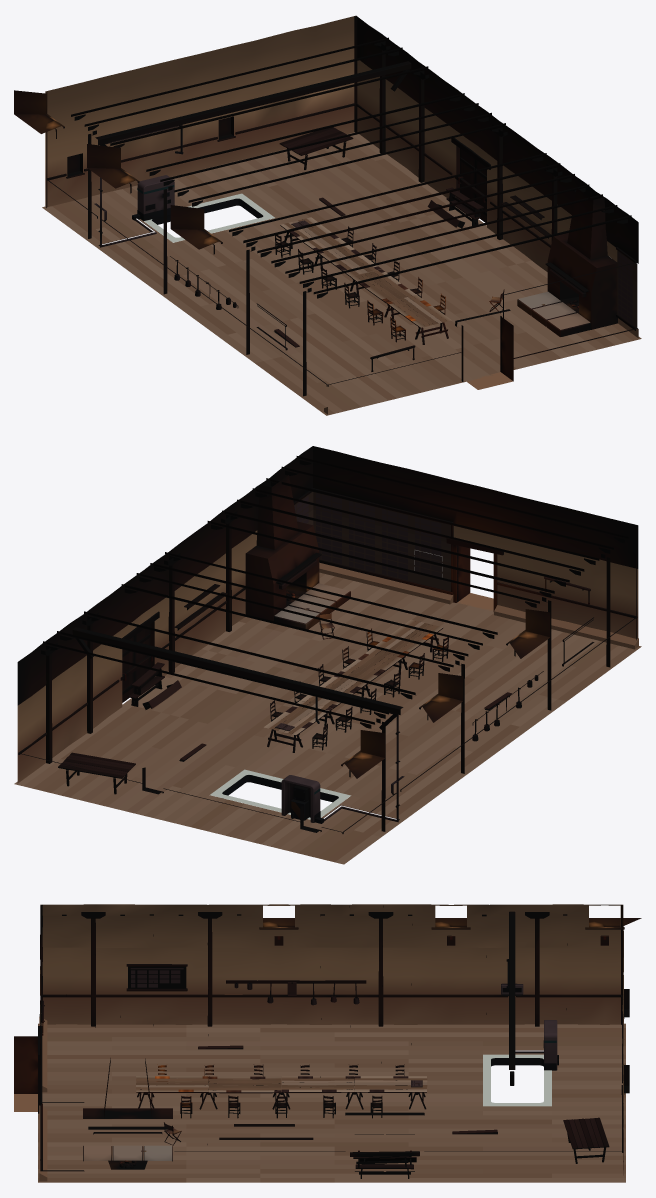
The model's file is env_tally_house.glb.
3 renders of one model, top to bottom at view 1: azimuth 30°, elevation 25°; view 2: azimuth 150°, elevation 25°; view 3: azimuth 270°, elevation 25°, orthographic. The views are drawn at different scales.
Visible parts, largest first — view 1: chunk_ty_hall__m_frontier, chunk_ty_hall__m_pellam, chunk_ty_hall__m_mask; view 2: chunk_ty_hall__m_frontier, chunk_ty_hall__m_mask, chunk_ty_hall__m_pellam; view 3: chunk_ty_hall__m_frontier, chunk_ty_hall__m_pellam, chunk_ty_hall__m_mask.
Boxes of the visible parts, x1,y1,x2,y2 form: chunk_ty_hall__m_frontier: (14,15,641,415); chunk_ty_hall__m_pellam: (94,124,274,247); chunk_ty_hall__m_mask: (145,193,632,324); chunk_ty_hall__m_frontier: (14,446,641,864); chunk_ty_hall__m_mask: (294,493,441,580); chunk_ty_hall__m_pellam: (210,696,404,823); chunk_ty_hall__m_frontier: (14,904,641,1182); chunk_ty_hall__m_pellam: (483,959,558,1106); chunk_ty_hall__m_mask: (130,968,521,992).
Bounding box in the file's own units: 15.2 × 5.3 × 23.7.
